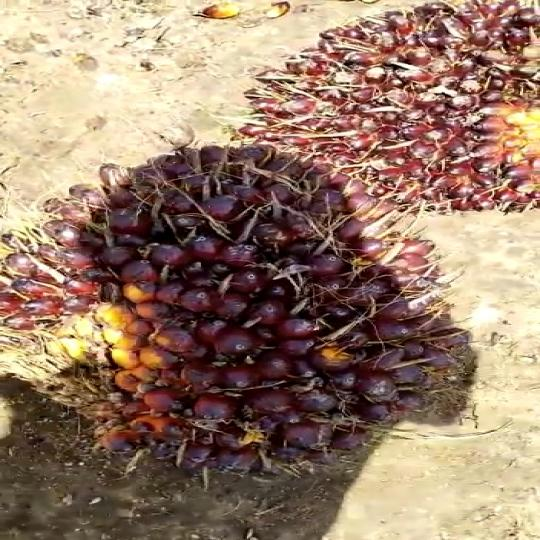kurang masak: (0, 130, 452, 486), (249, 0, 540, 219)
